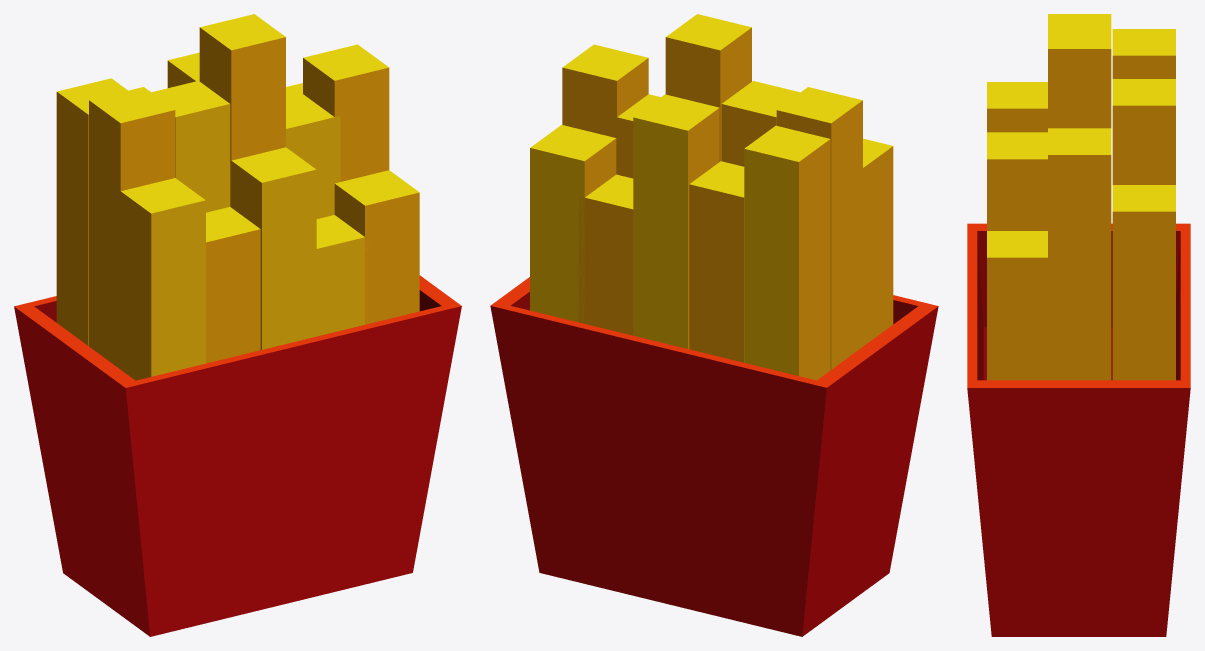
Rendered from French fries.fbx.
3 renders of one model, left to right at view 1: azimuth 30°, elevation 25°; view 2: azimuth 150°, elevation 25°; view 3: azimuth 270°, elevation 25°, orthographic.
Visible parts, largest first — view 1: Cube; view 2: Cube; view 3: Cube.
Part boxes in pixels (x1,y1,x2,y2): Cube: (14,14,461,636); Cube: (490,14,938,636); Cube: (967,14,1190,636).
Size of the model in its own units: 319 by 488 by 183.
1 material, 1 textured.
